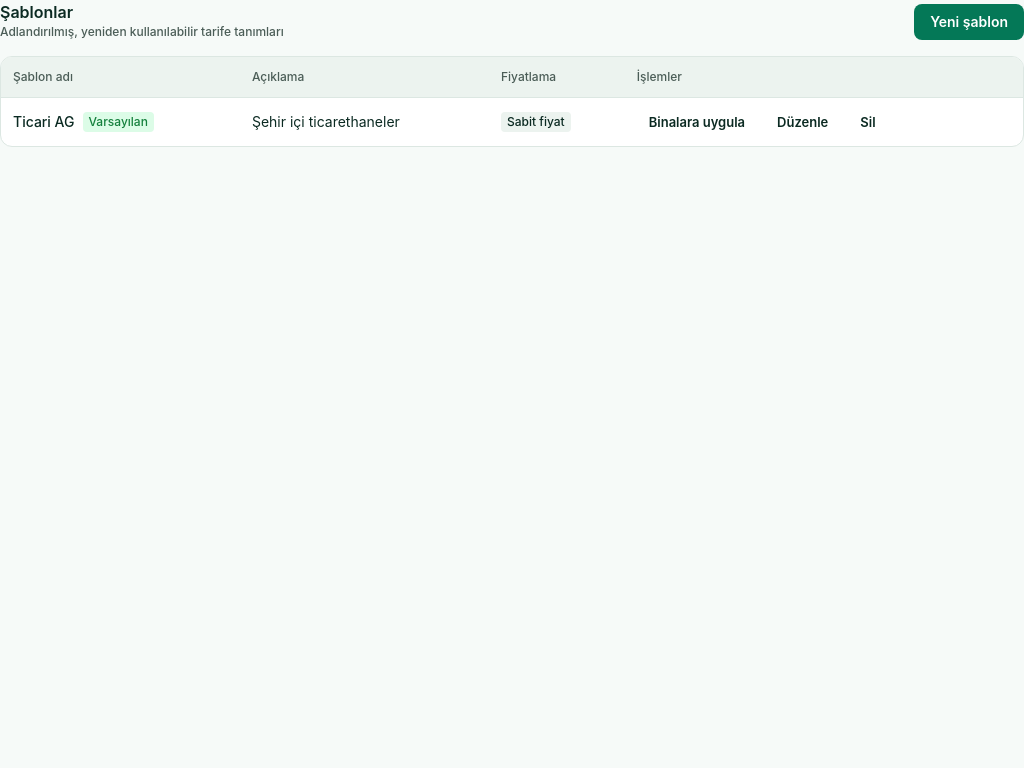
Test: TemplatesTabView › refuses to apply with nothing selected
The image size is (1024, 768).
Click the button "Binalara uygula" at x=697, y=122, box [637,106,757,138]
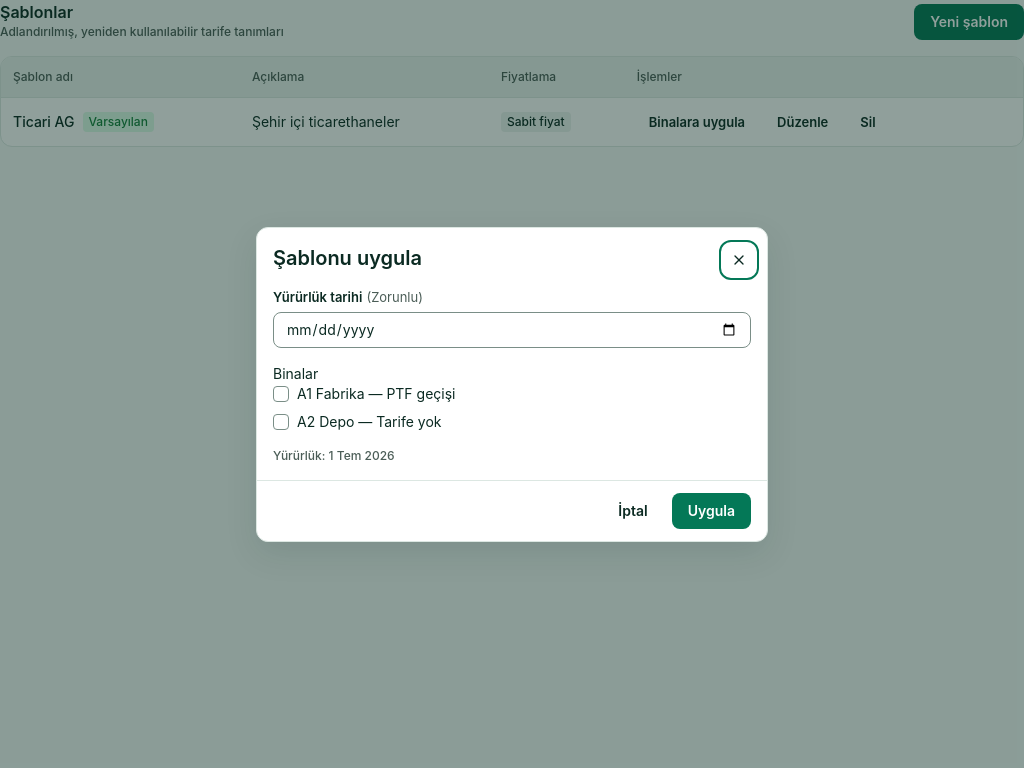
Type "2026-10-01" into the date field labelled "Yürürlük tarihi(Zorunlu)" at x=512, y=330, box [273,312,751,348]
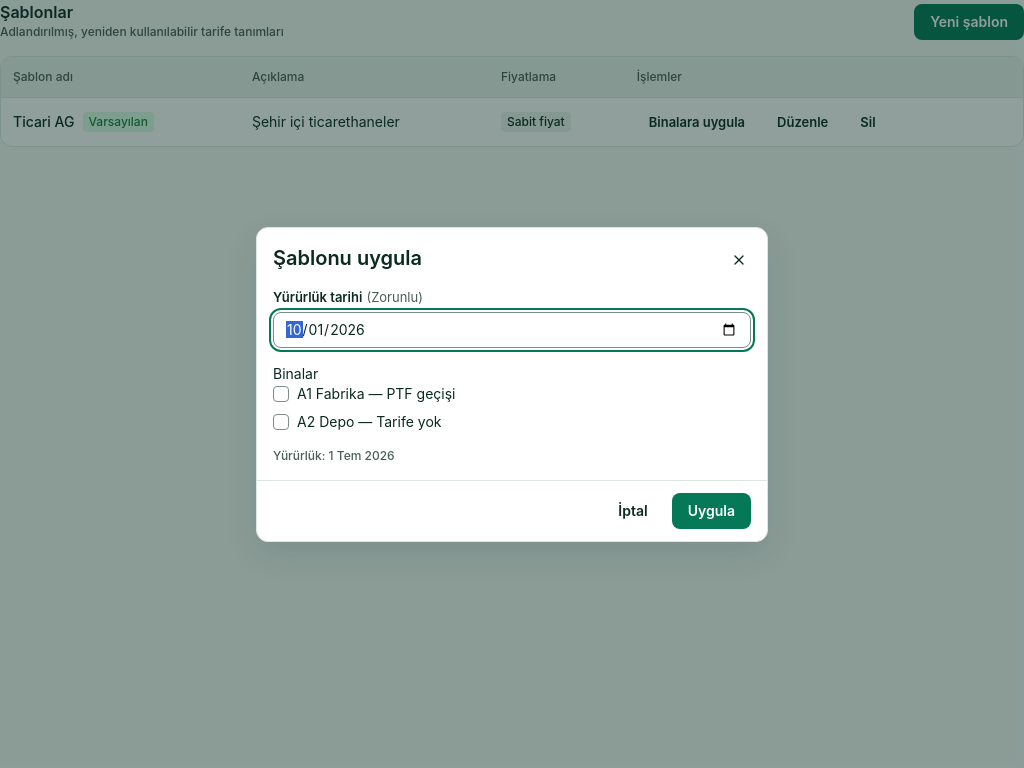
Click the button "Uygula" at x=711, y=510, box [672,492,751,528]
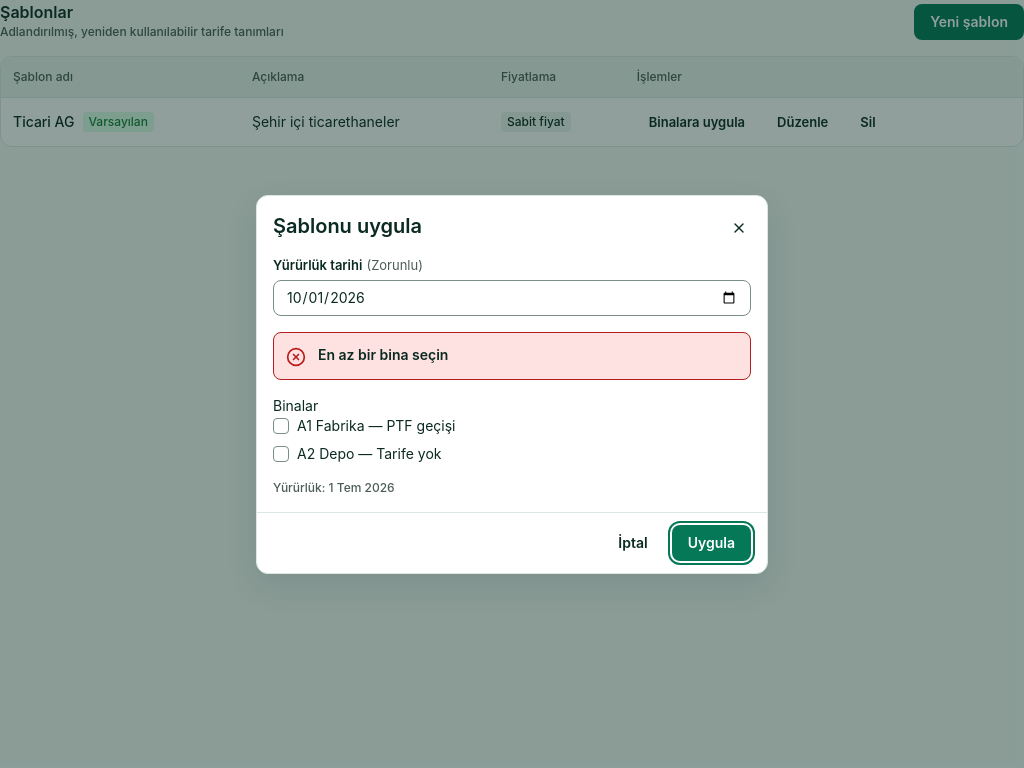
Expected: the message reads "En az bir bina seçin", [318,346,448,362]
